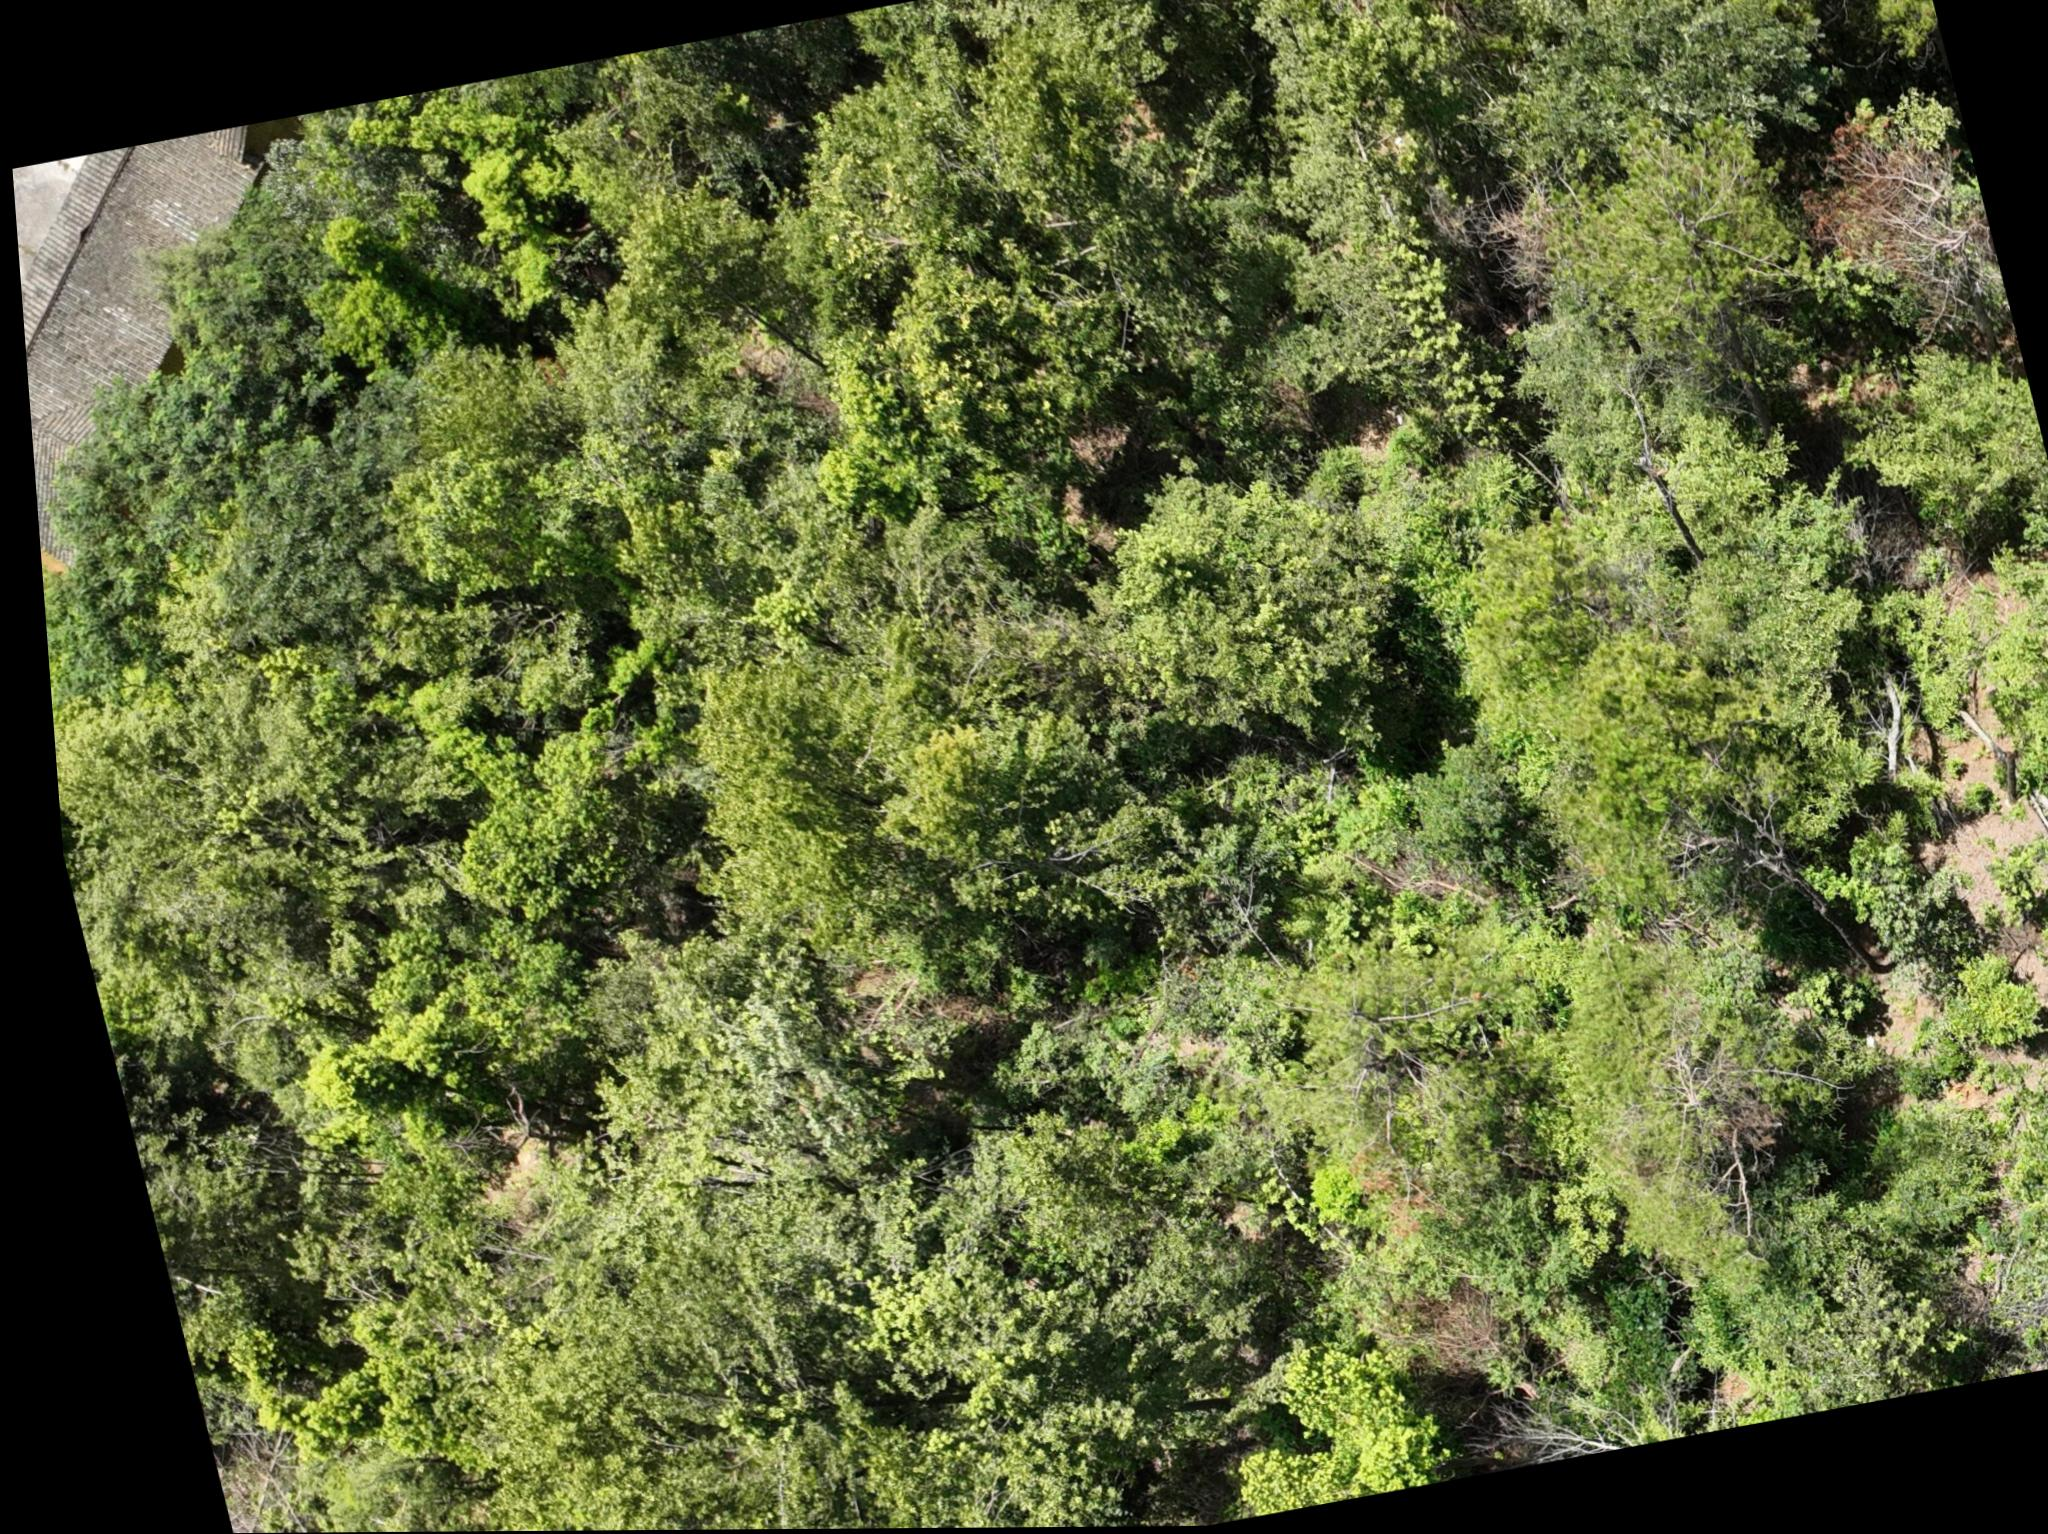heavy: (1782, 106, 1975, 300)
